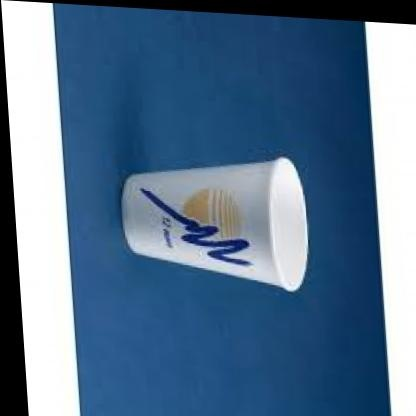trash: (122, 157, 307, 291)
